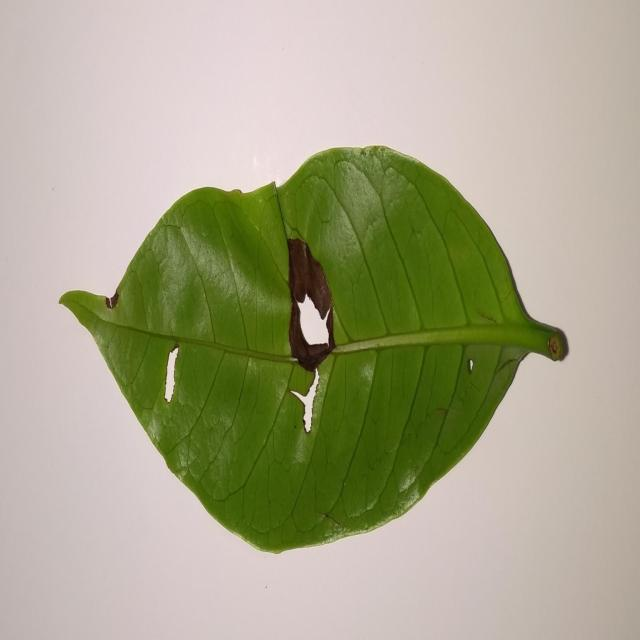Enfermedad-Antracnosis: (59, 148, 570, 557)
